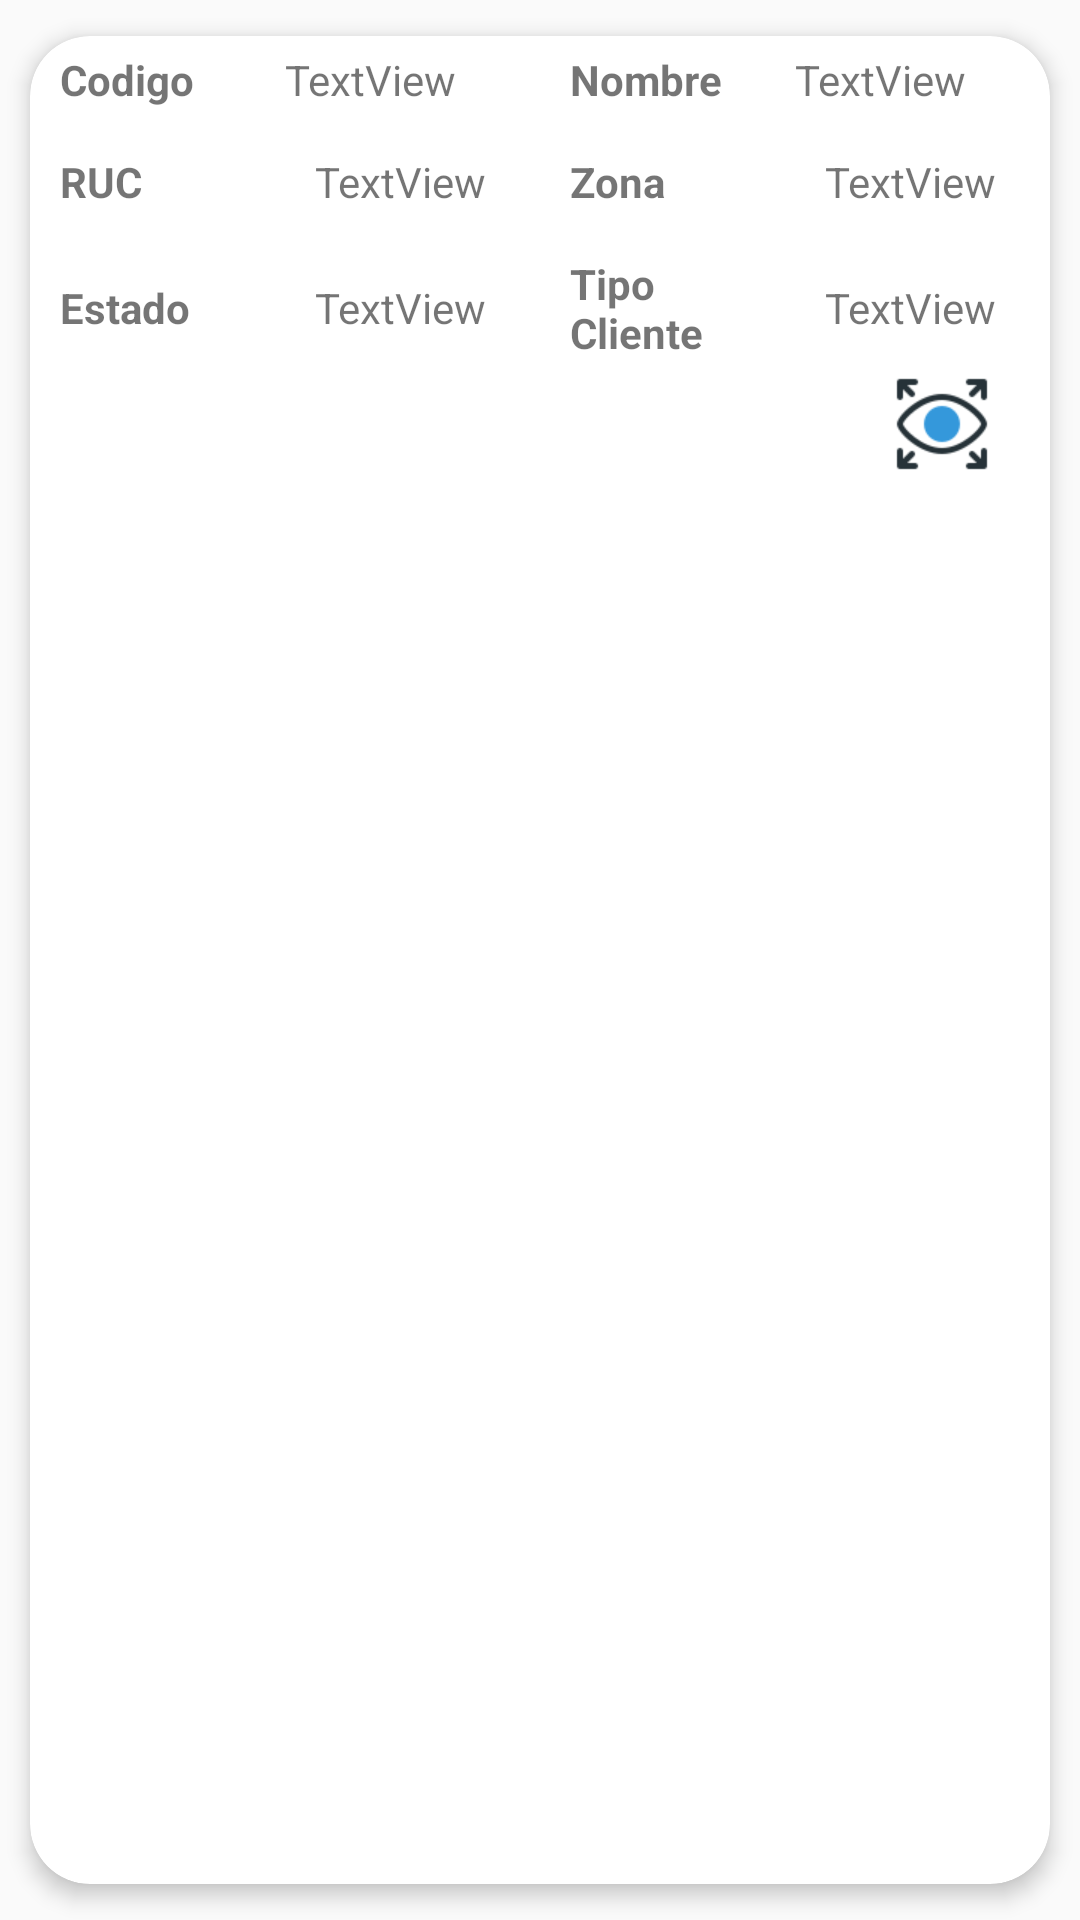

Point at icon controls on the screen. Image size 1080*1920, points as point (x, y).
vision: point (942, 424)
